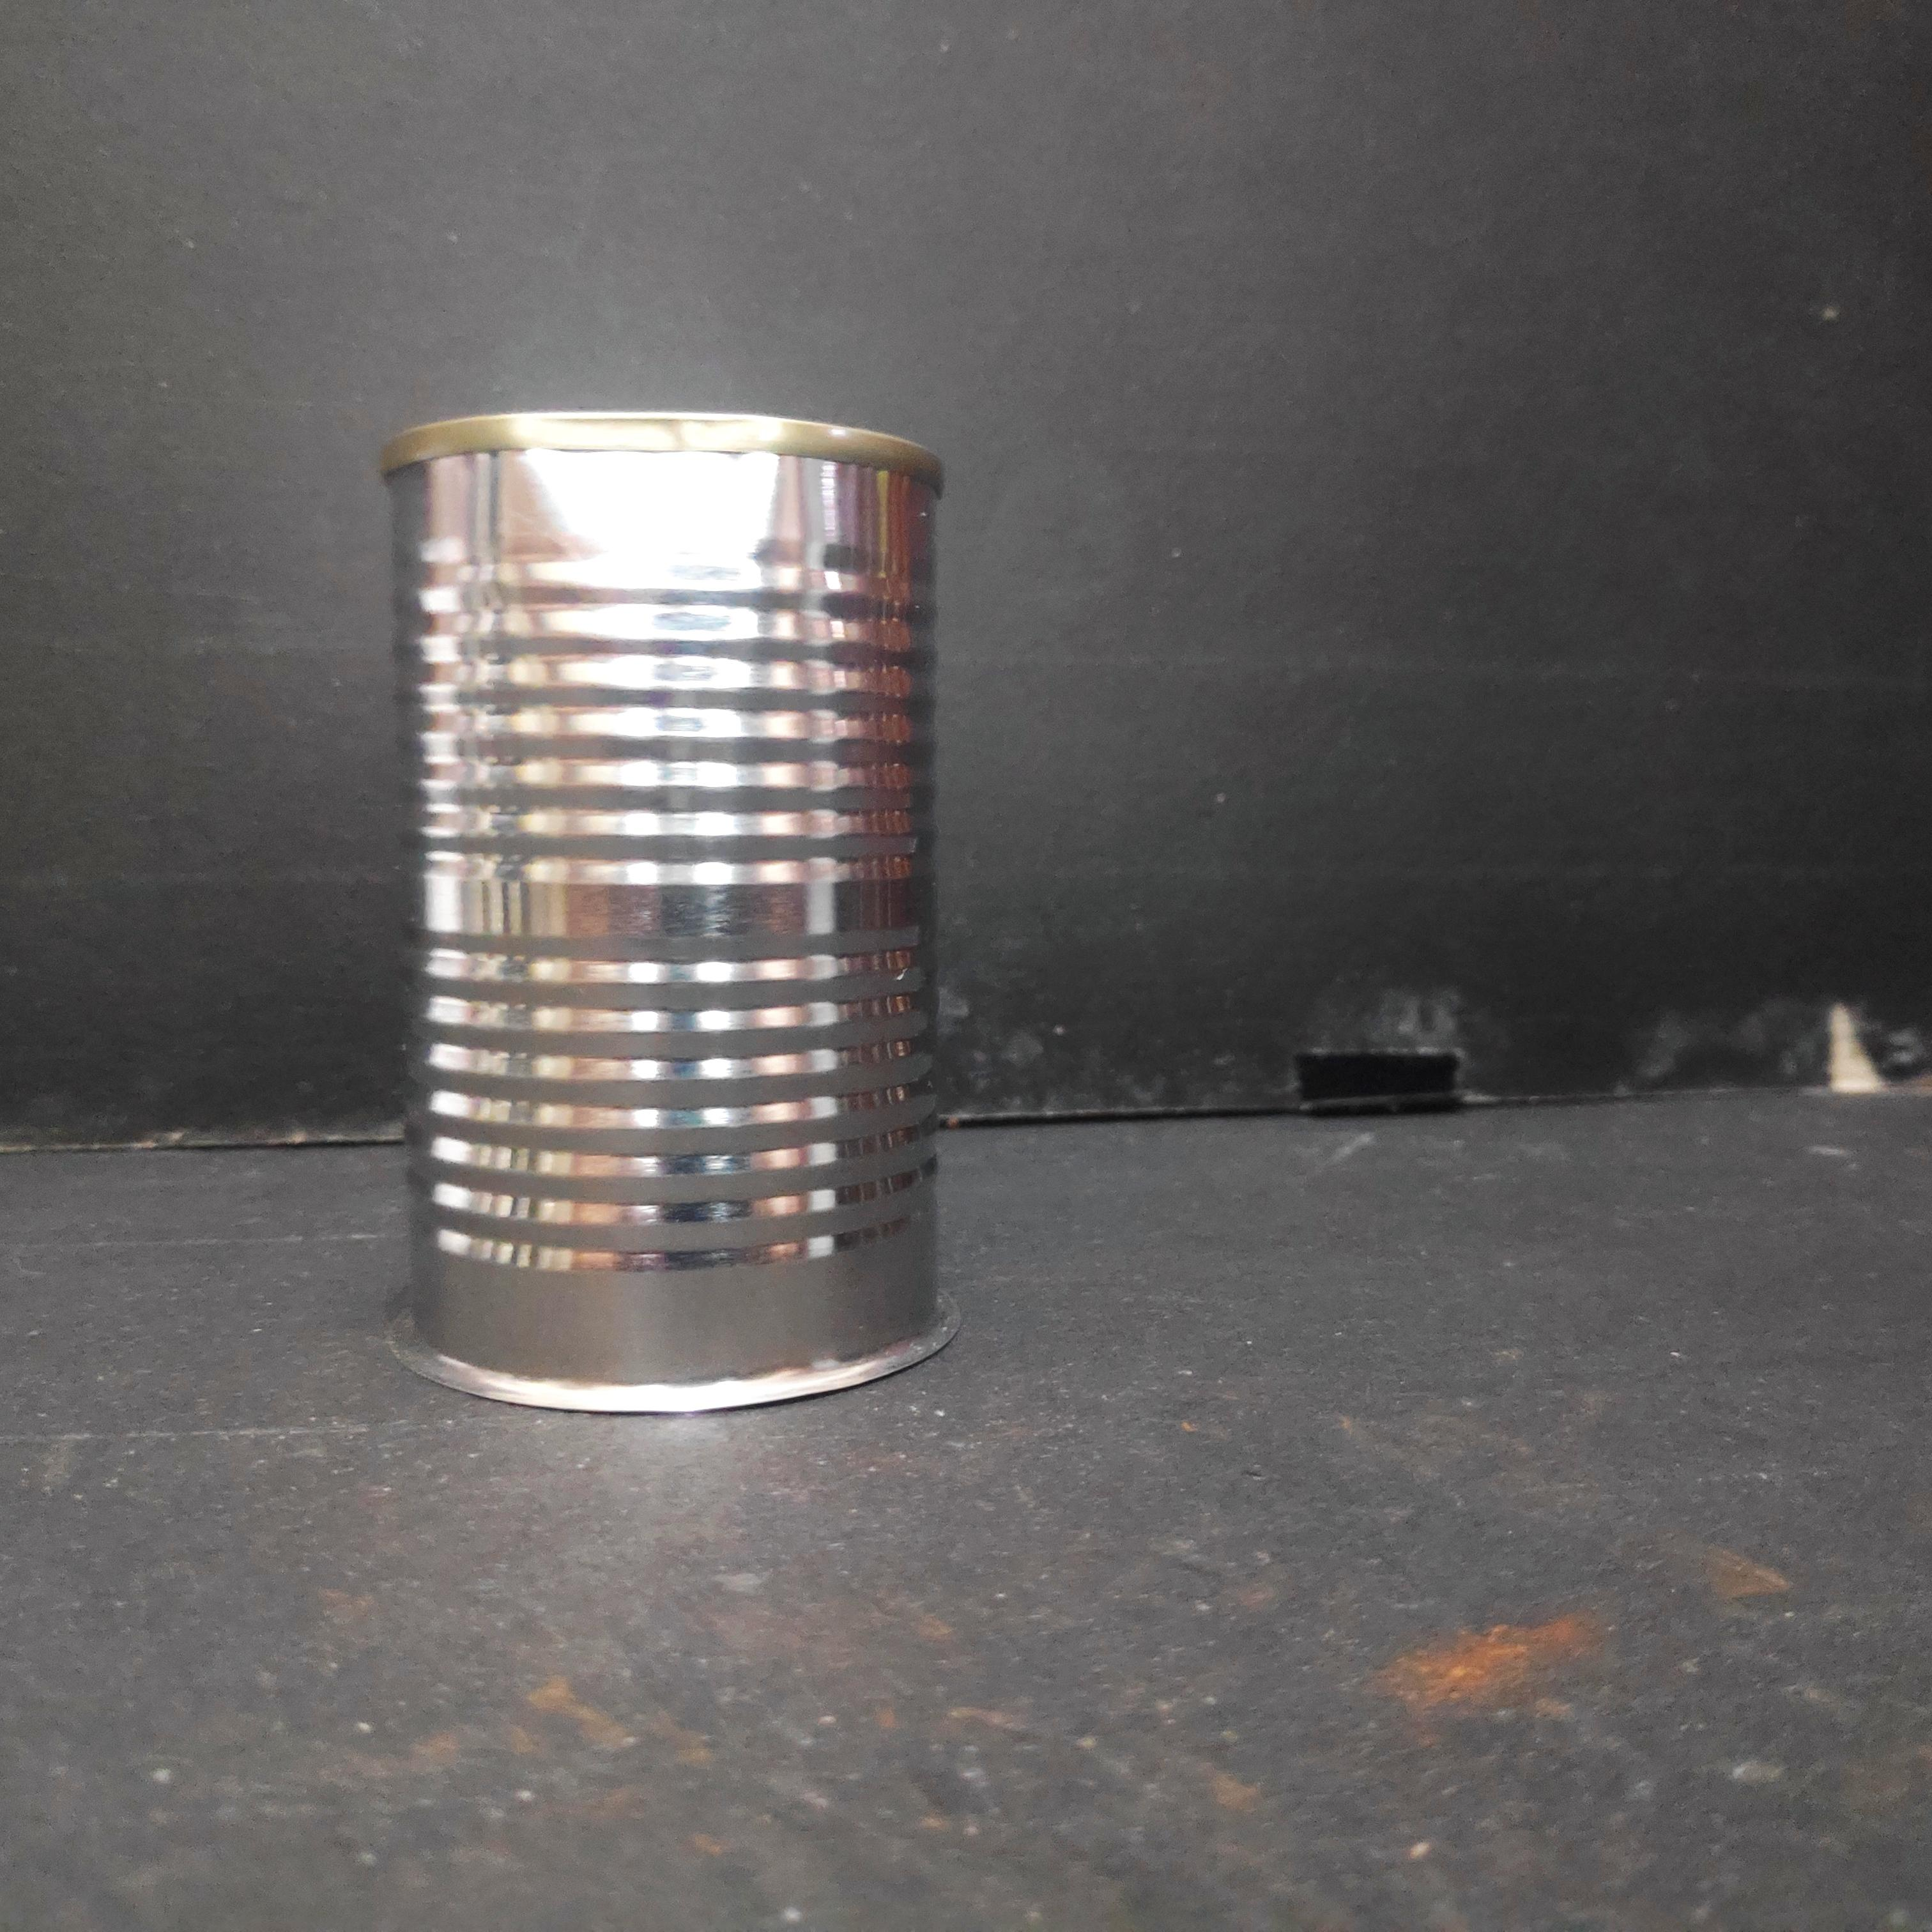Minor Defect: (372, 400, 959, 1420)
